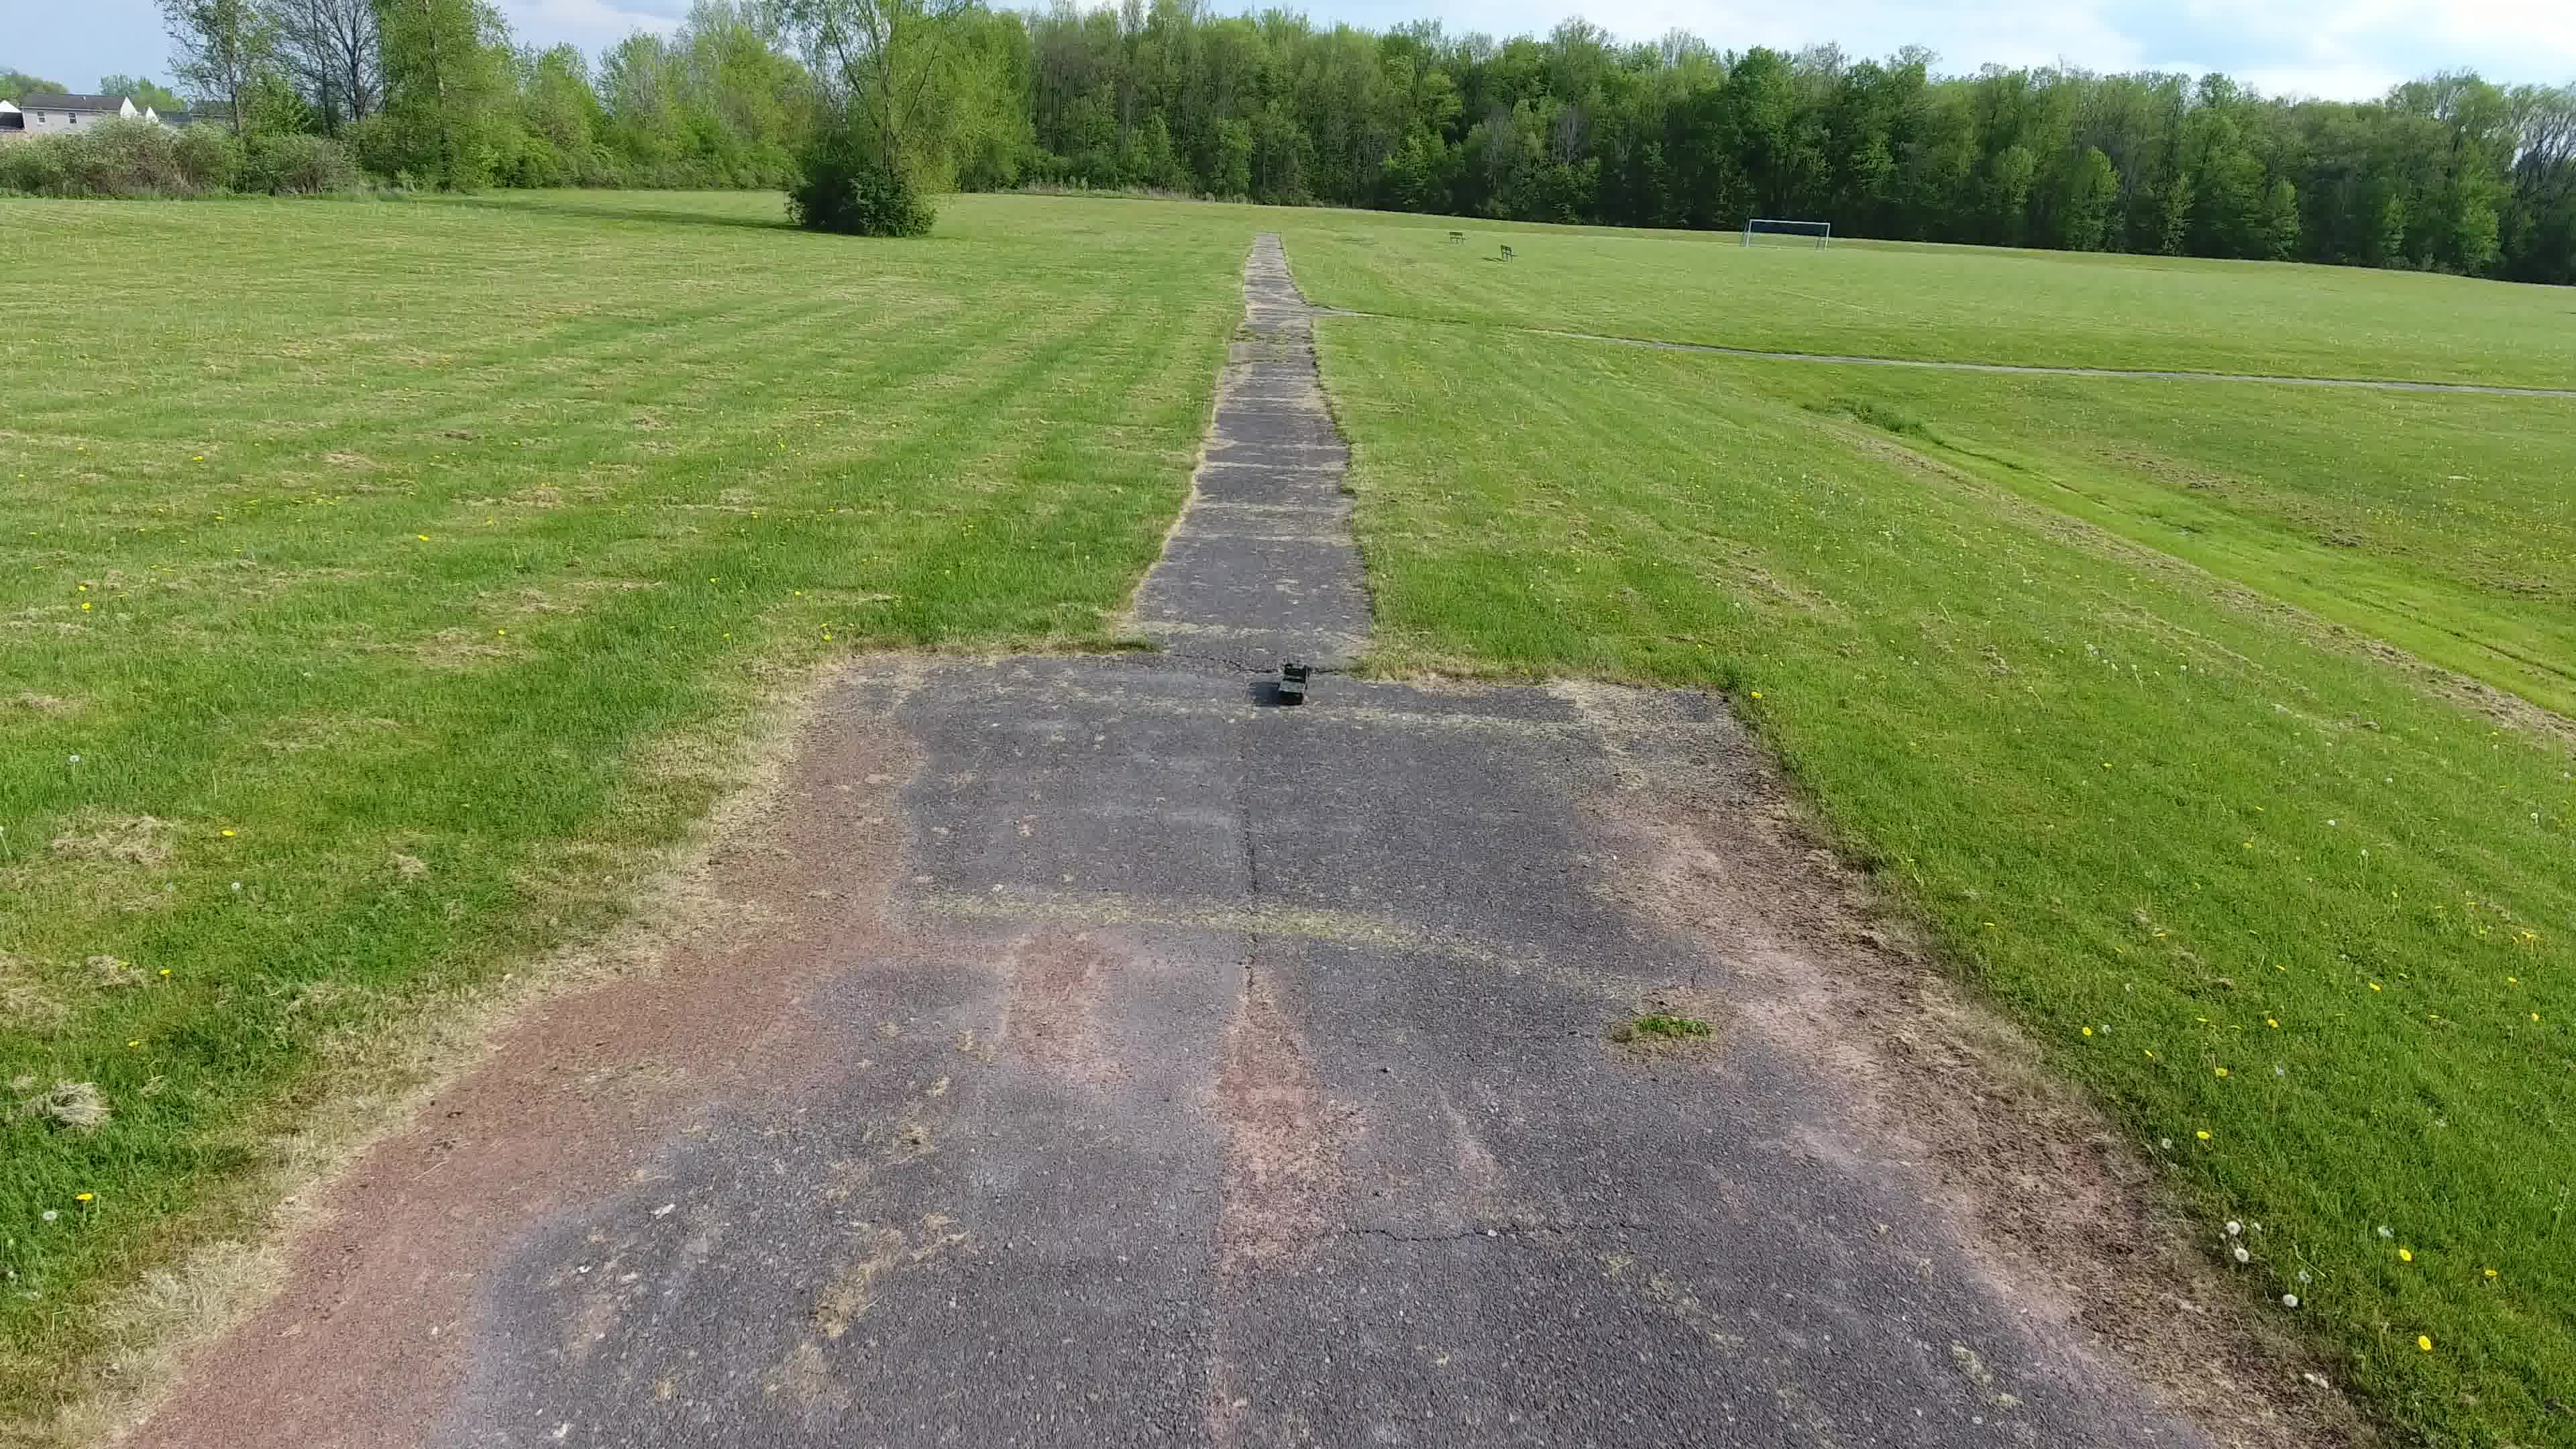transporter9_camo: (1276, 660, 1313, 706)
